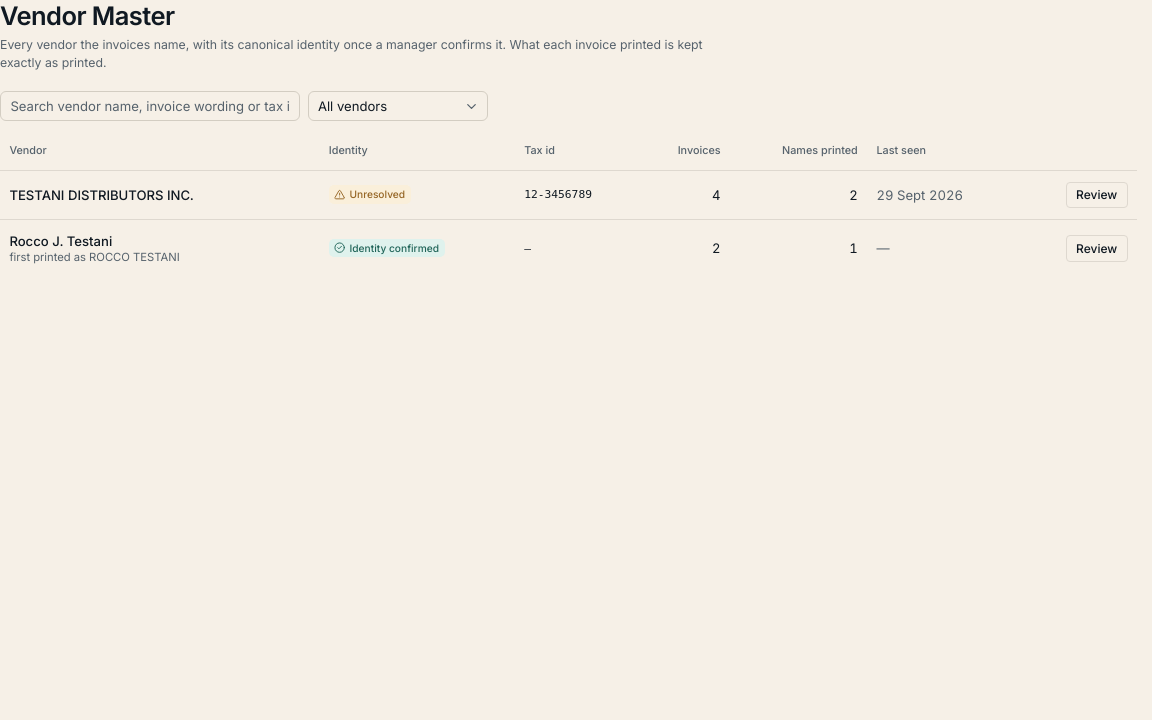
Test: vendor reading discrepancies › shows readings that disagreed with a confirmed vendor
Click the button "Review" in the row of "Rocco J. Testani": [1097, 248] box [1066,235,1128,262]
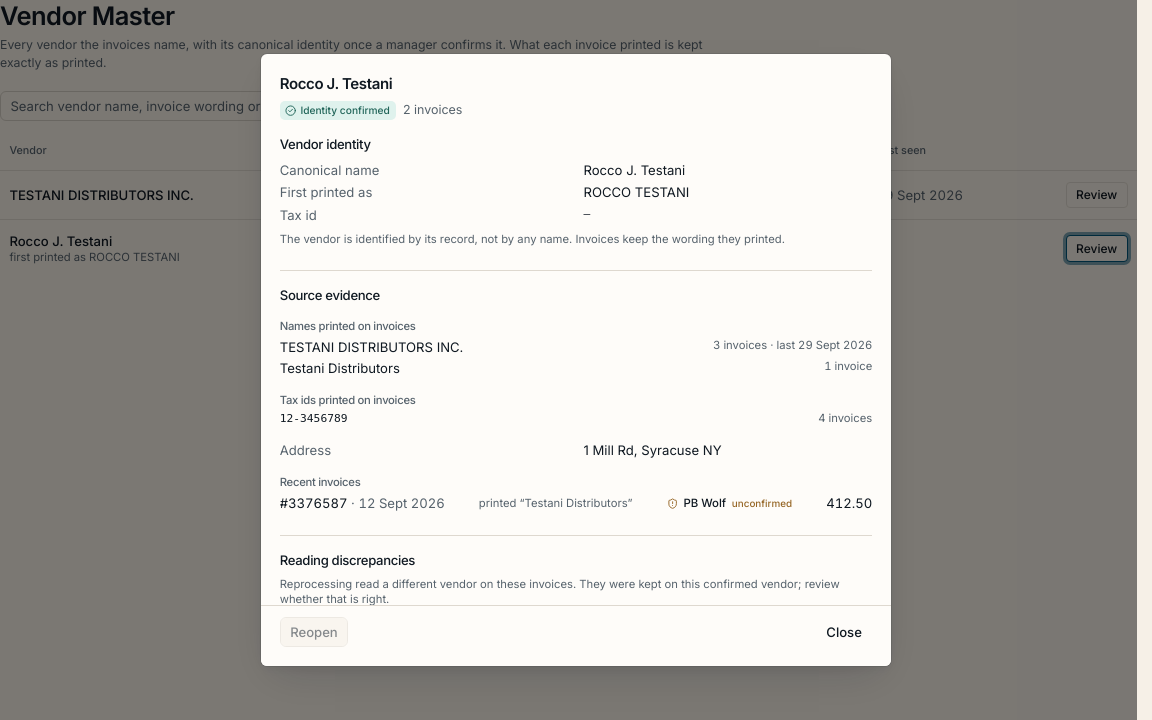
Result: the element with test id "vendor-discrepancies" shows "#3376590" at [280,616,348,632]
Result: the element with test id "vendor-discrepancies" shows "read as “TESTANI BROS”" at [280,535,872,634]
